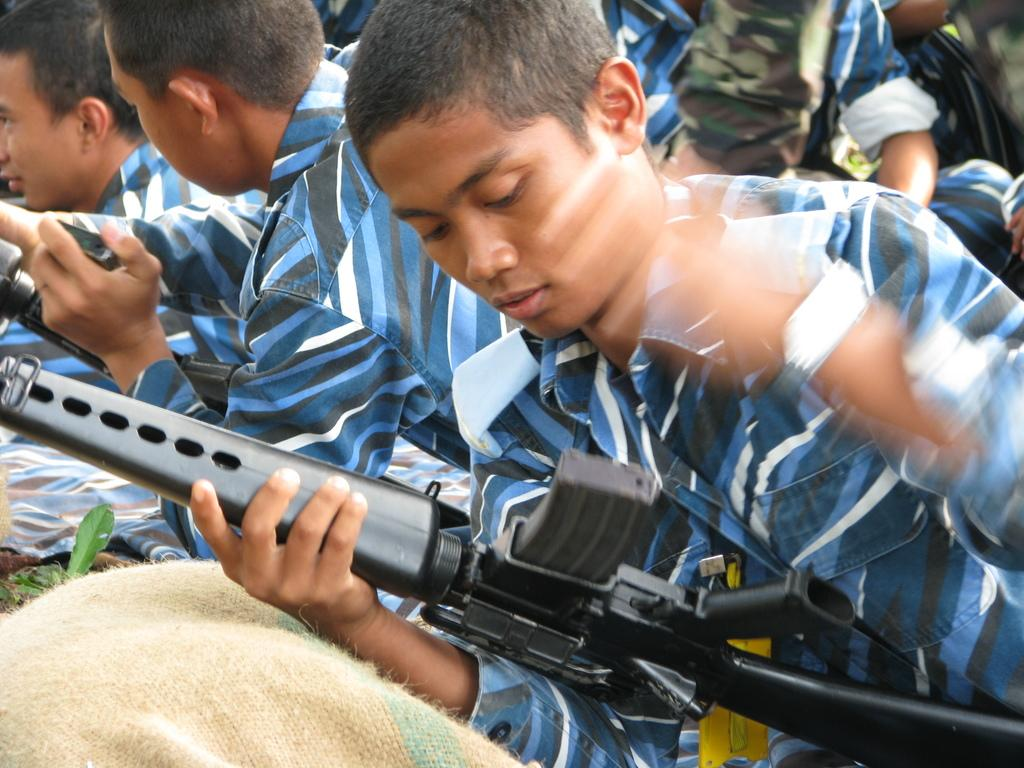Rifle: (22, 298, 993, 706)
